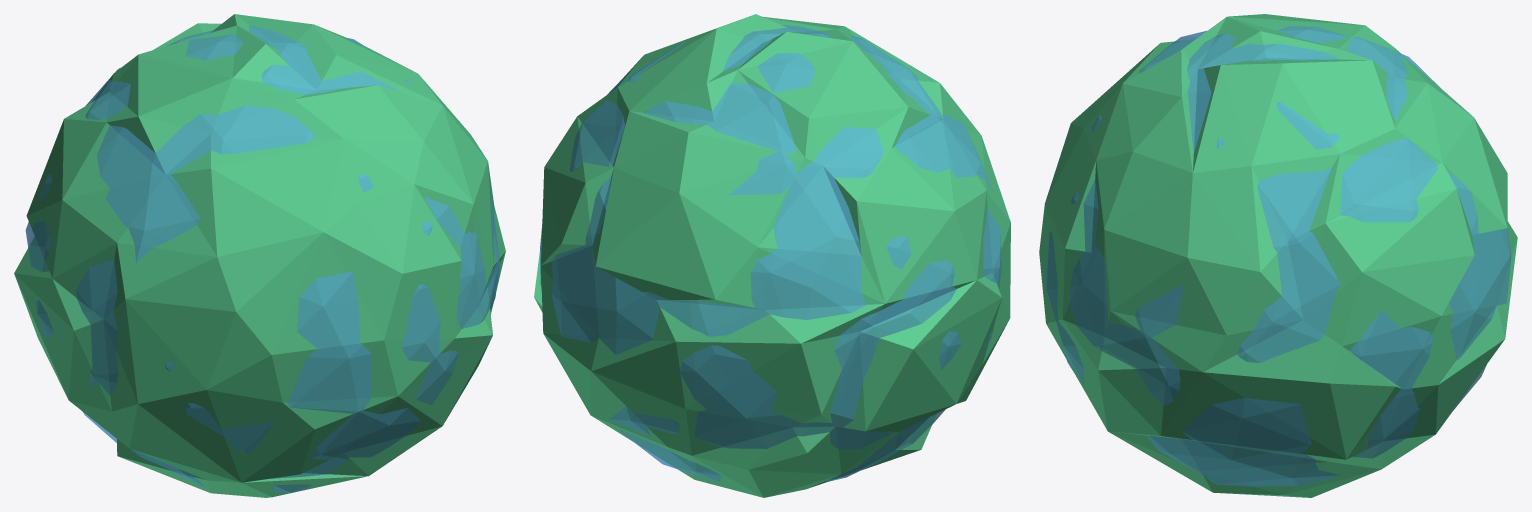
Rendered from earth_like_planet7.fbx.
3 views of the same model, side by side, from view 1: azimuth 30°, elevation 25°; view 2: azimuth 150°, elevation 25°; view 3: azimuth 270°, elevation 25° (orthographic).
Visible parts, largest first — view 1: earth_like_planet7; view 2: earth_like_planet7; view 3: earth_like_planet7.
Boxes of the visible parts, x1=… form: earth_like_planet7: x1=14, y1=14, x2=505, y2=497; earth_like_planet7: x1=534, y1=14, x2=1010, y2=497; earth_like_planet7: x1=1039, y1=14, x2=1517, y2=497.
Bounding box in the file's own units: 205 × 207 × 203.
